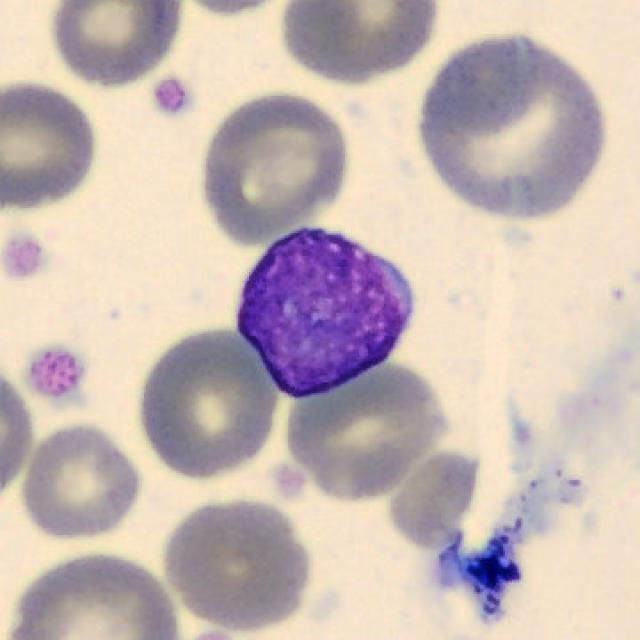Linfocito: (235, 228, 414, 402)
